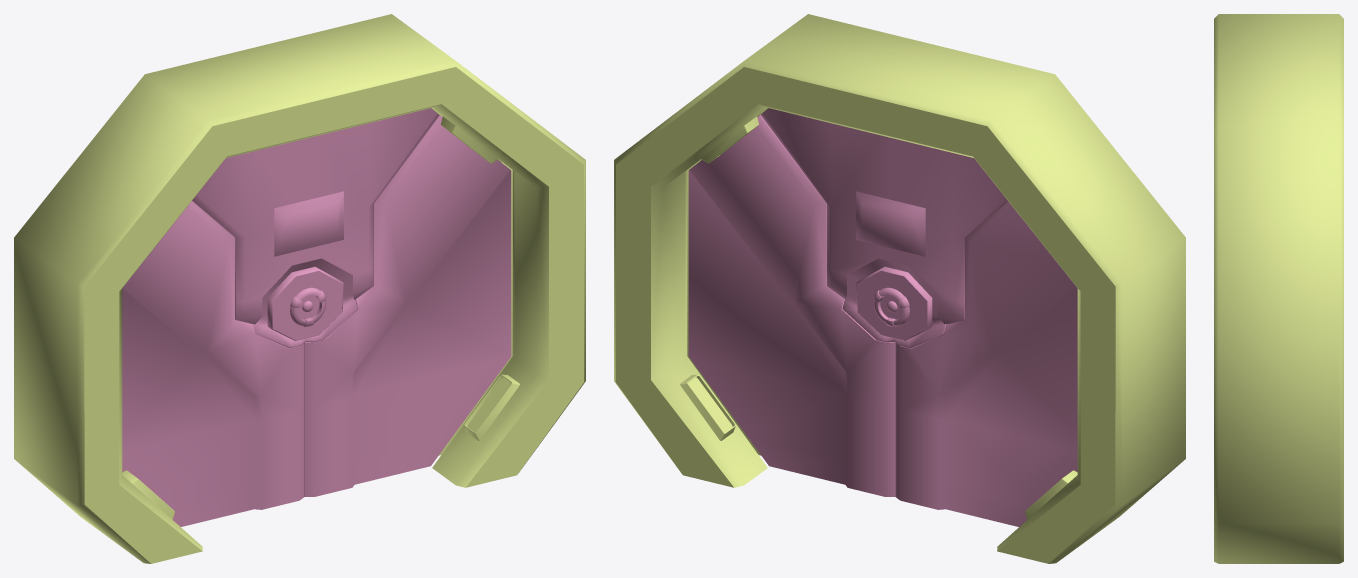
The model's file is Door_Openable.FBX.
3 renders of one model, left to right at view 1: azimuth 30°, elevation 25°; view 2: azimuth 150°, elevation 25°; view 3: azimuth 270°, elevation 25°, orthographic. The views are drawn at different scales.
Parts seen in each view (by area): view 1: DoorTop, DoorRight, DoorLeft, DoorTop001, DoorMechanismus; view 2: DoorTop, DoorRight, DoorLeft, DoorTop001, DoorMechanismus; view 3: DoorTop.
Boxes of the visible parts, <box> form: DoorTop: <box>14,14,585,563</box>; DoorRight: <box>304,115,511,496</box>; DoorLeft: <box>122,201,304,526</box>; DoorTop001: <box>192,108,438,348</box>; DoorMechanismus: <box>290,287,326,327</box>; DoorTop: <box>614,14,1185,563</box>; DoorRight: <box>688,115,895,496</box>; DoorLeft: <box>895,201,1077,526</box>; DoorTop001: <box>761,108,1007,348</box>; DoorMechanismus: <box>873,287,909,327</box>; DoorTop: <box>1214,14,1343,563</box>.
Bounding box in the file's own units: 329 × 264 × 76.65.
